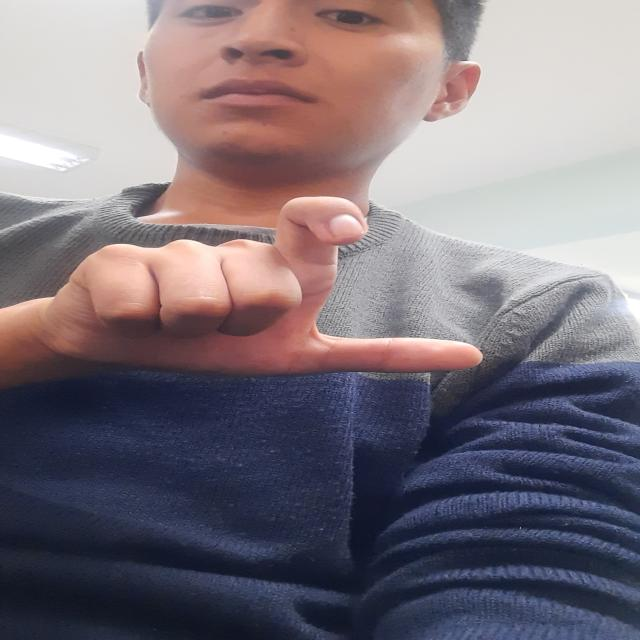G: (0, 190, 516, 384)
